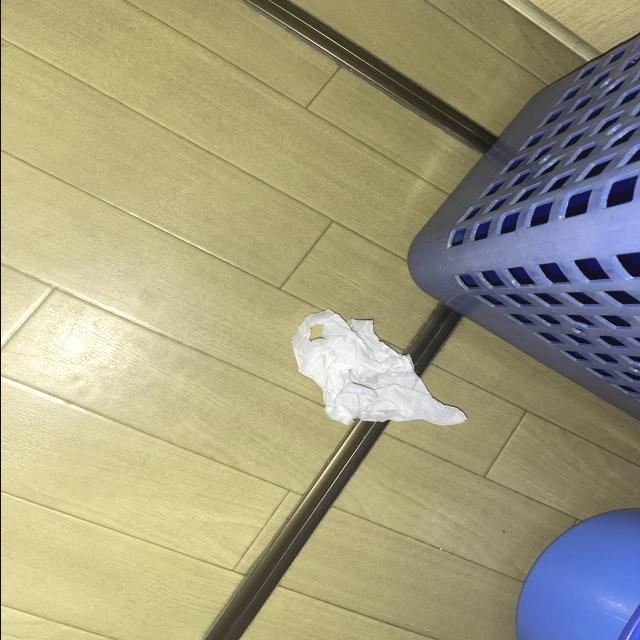Paper: (277, 296, 473, 451)
